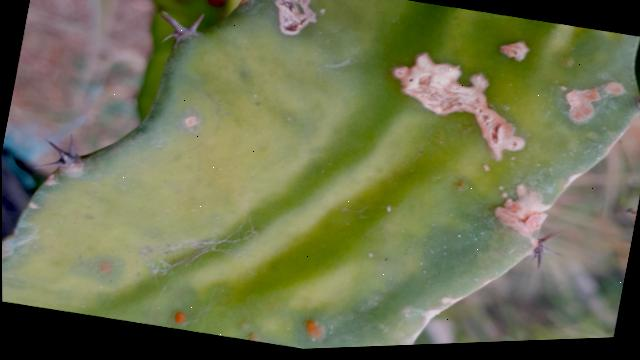stemcanker: (297, 311, 330, 342), (169, 306, 194, 327)
